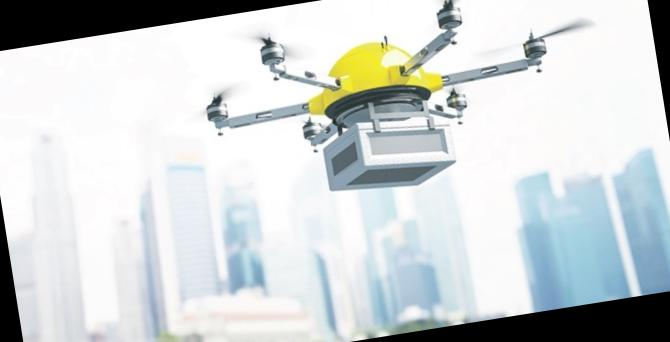drone: (162, 0, 606, 182)
